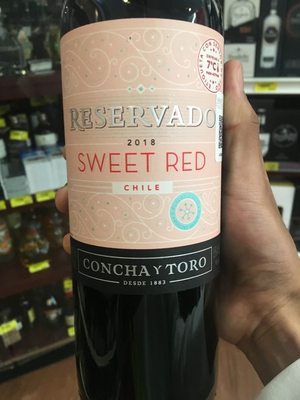reservado sweet red: (57, 3, 244, 392)
